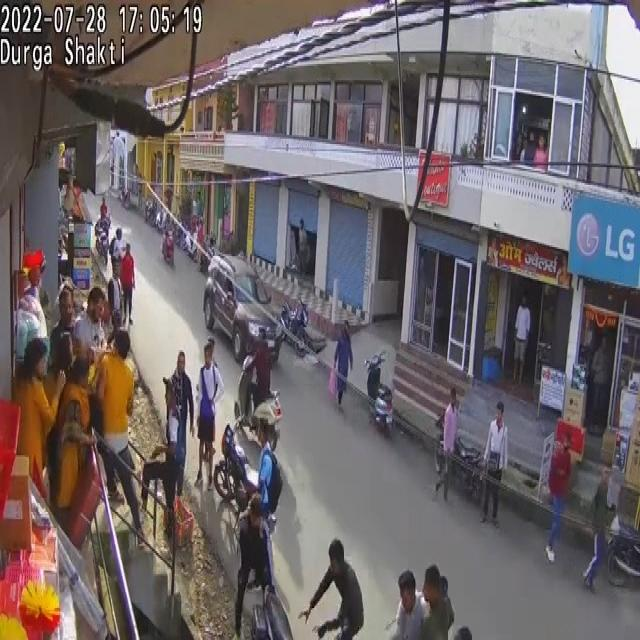fight: (18, 212, 140, 540), (51, 356, 96, 518), (14, 340, 61, 492), (300, 538, 364, 639), (233, 494, 272, 638), (73, 287, 110, 372), (48, 292, 77, 380)
non-fight: (92, 329, 141, 536), (195, 342, 225, 490), (582, 462, 614, 590), (169, 349, 196, 484), (480, 401, 508, 527), (546, 431, 572, 561), (418, 564, 454, 640), (246, 328, 271, 426), (436, 386, 458, 496), (588, 332, 611, 434), (333, 319, 353, 410), (513, 294, 531, 384), (108, 251, 124, 328), (120, 244, 135, 325), (188, 194, 206, 237)
